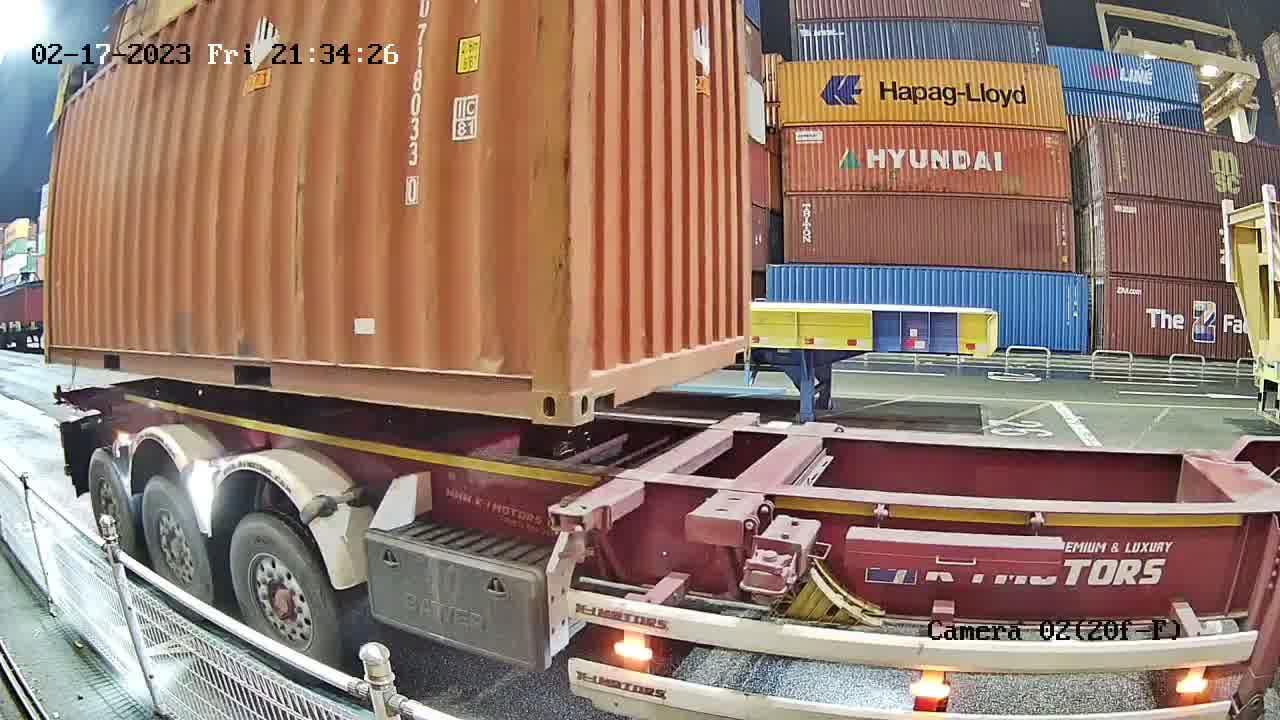Chassis: (552, 412, 761, 533)
Cone: (548, 504, 600, 564)
Hole_L: (574, 339, 623, 426)
Hole_R: (499, 348, 571, 428), (726, 319, 751, 364)
Tire: (232, 514, 336, 683), (140, 480, 212, 618), (88, 452, 133, 571)
